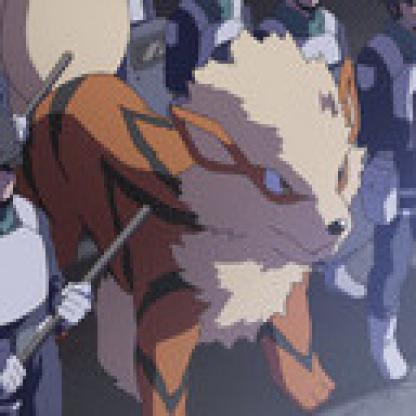Arcanine: (1, 11, 342, 414)
